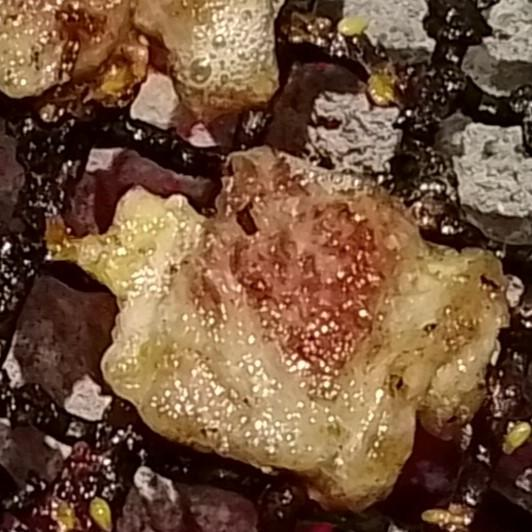Overcooked: (58, 161, 512, 515)
